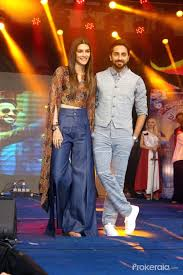Bad: (46, 38, 147, 238)
